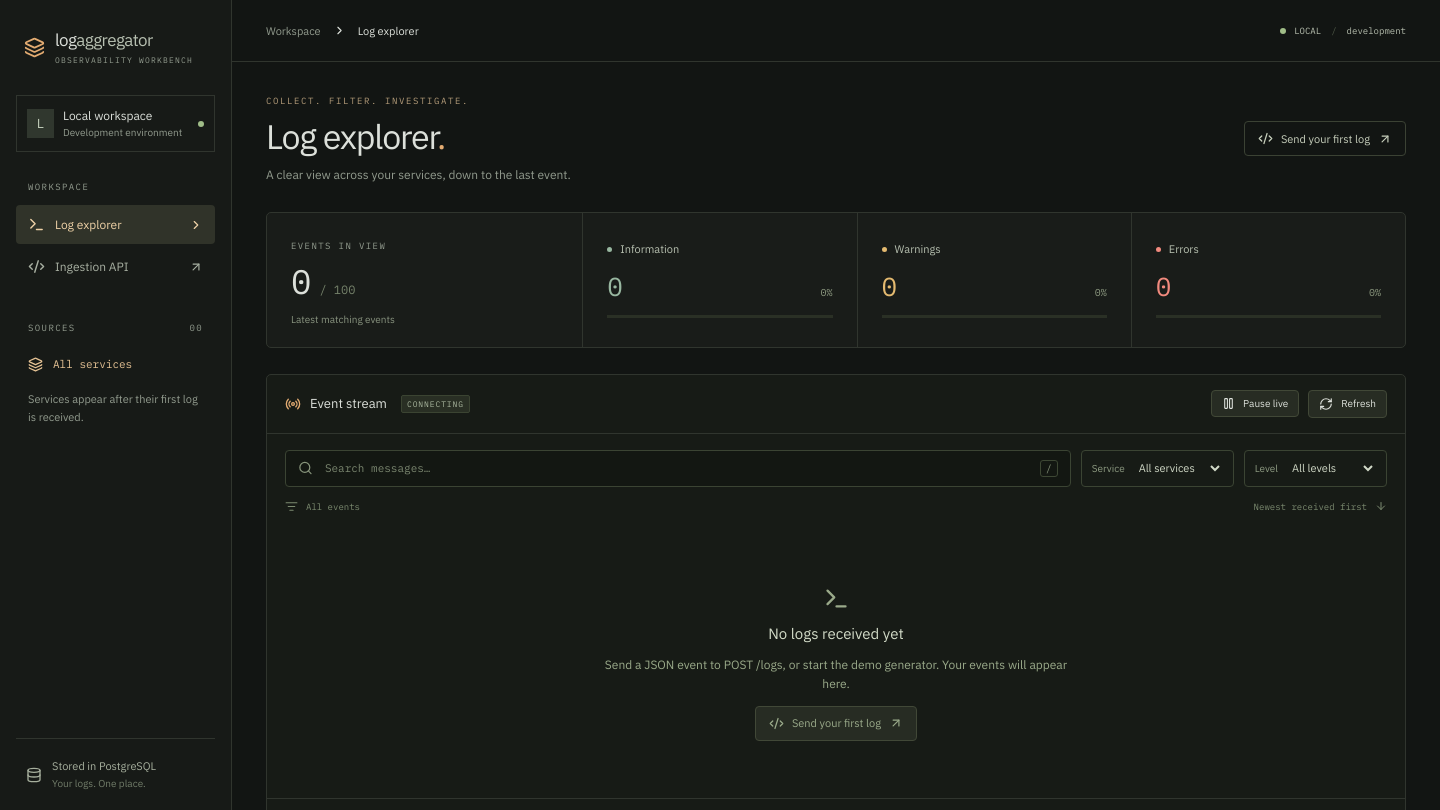
Test: guides a workspace with no logs to the existing ingestion instructions
Expected: the element "No logs received" shows "No logs received yet", [768, 624, 904, 643]
Expected: the element "No logs received" shows "POST /logs", [605, 657, 1067, 692]
Click the button "Send your first log" below "No logs received yet": (836, 723) [755, 706, 917, 741]
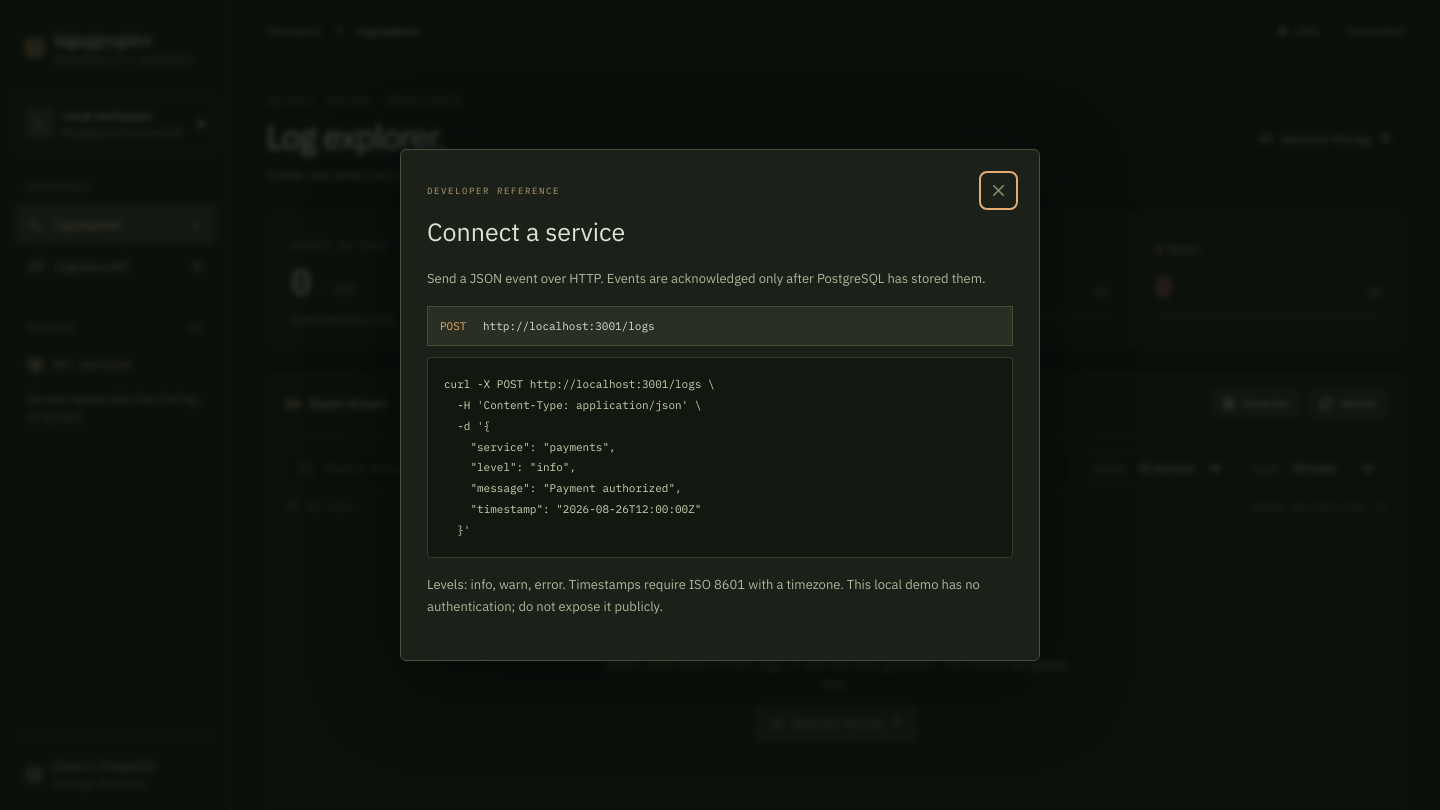
Result: the dialog "Connect a service" shows "curl -X POST" at [444, 377, 715, 537]
Click the button named "Close dialog": (998, 190) [984, 176, 1013, 205]
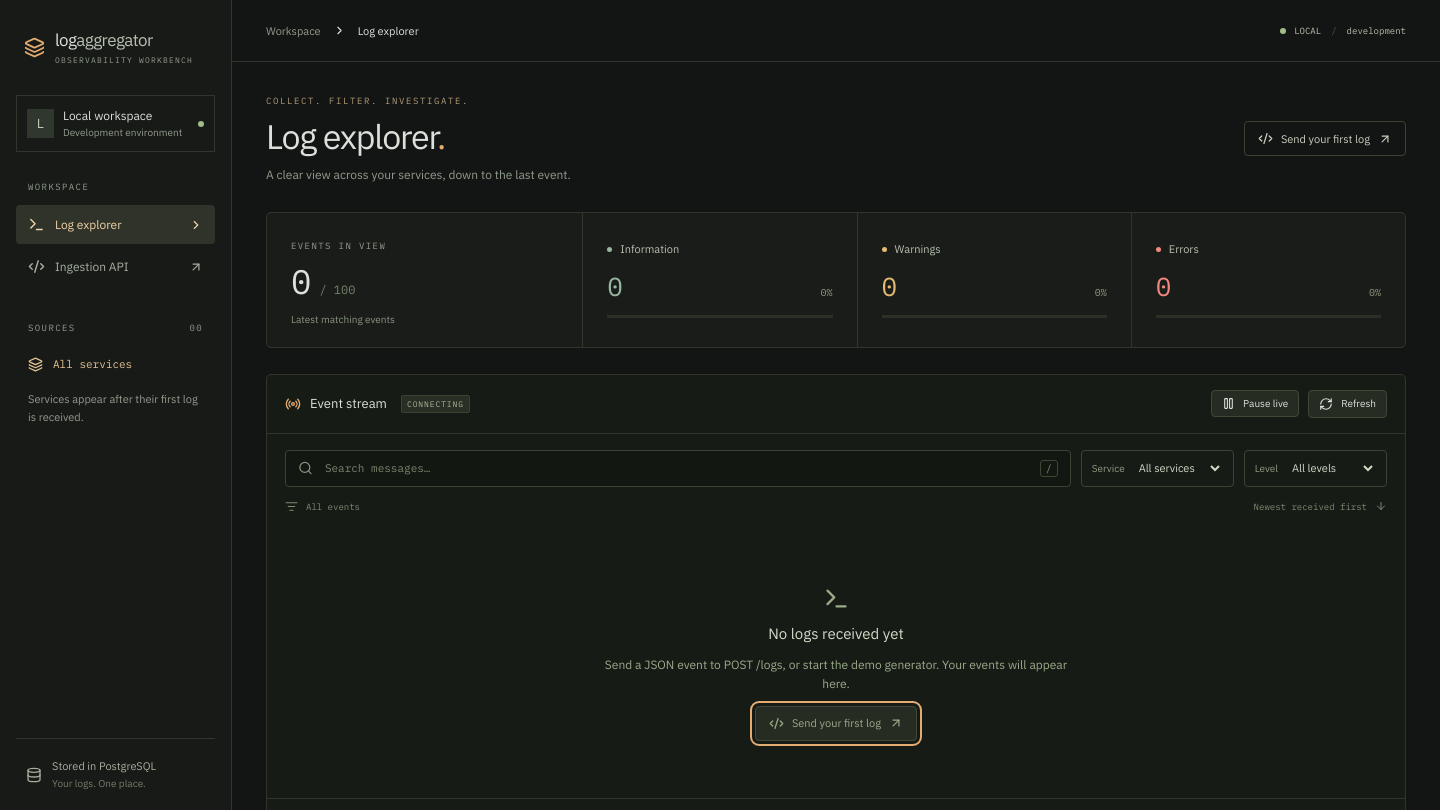
Result: the dialog is gone
